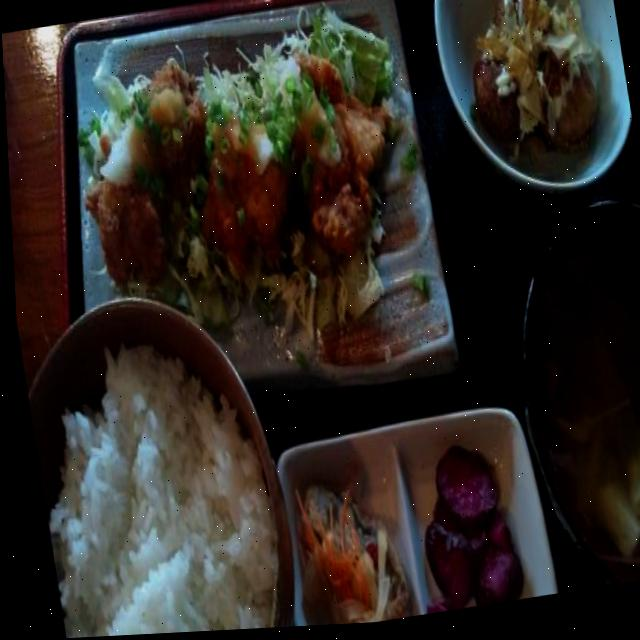米饭主食: (15, 320, 287, 640)
